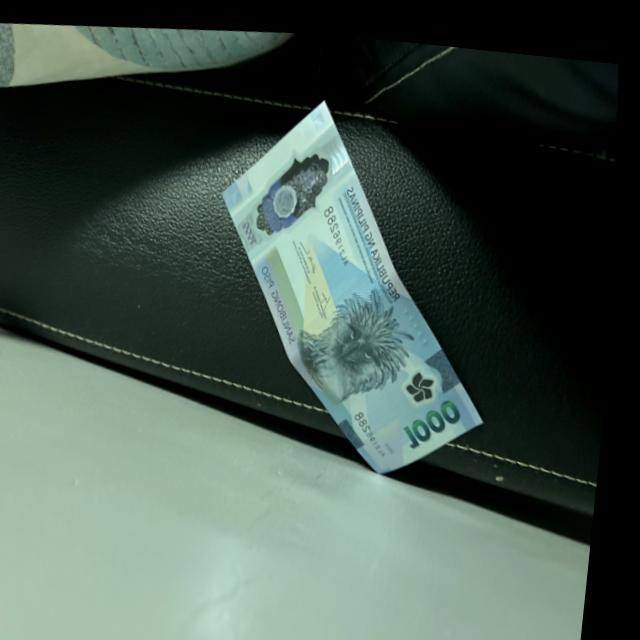clear_window: (251, 140, 348, 237)
eagle: (301, 284, 421, 398)
sampaguita: (411, 361, 445, 394)
